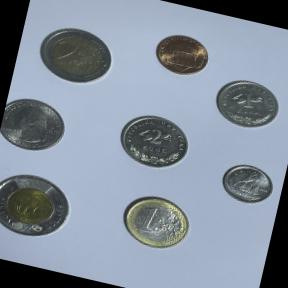coin: (0, 162, 82, 250), (29, 17, 122, 93), (110, 105, 198, 179), (113, 187, 197, 257), (0, 90, 73, 161), (212, 154, 279, 214), (146, 26, 216, 83)
